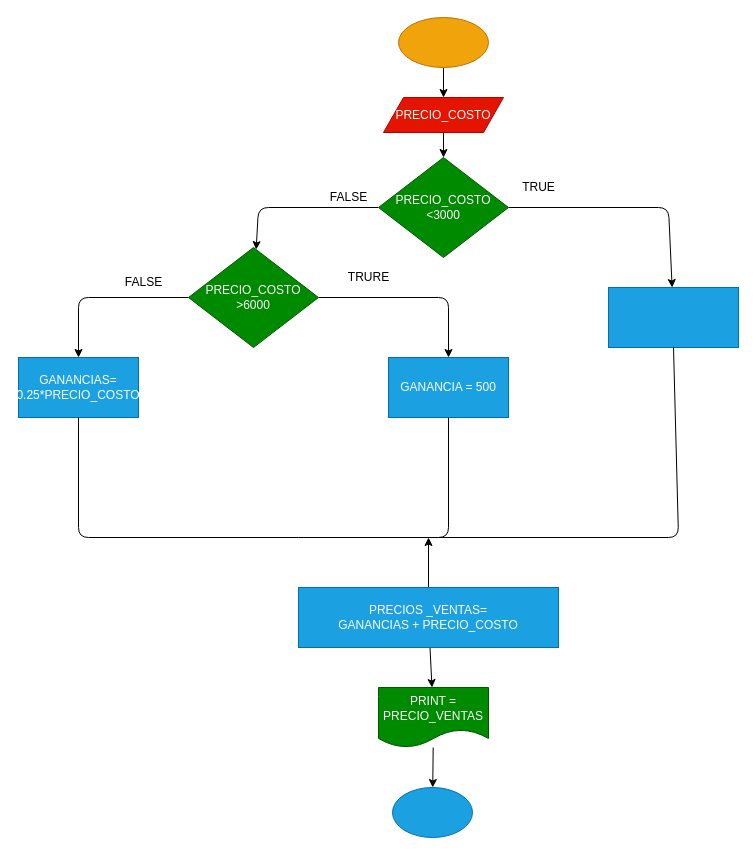
Image size: 756x855. Some labels were removed from this diagram. The shapes that lost their labels are listed below. From the top down, each one's centre as x and y in pixels, then its label:
the point at 443,42: inicio
the point at 673,317: GANCIA= 0.15*PREICIO_COSTO
the point at 432,812: FIN
